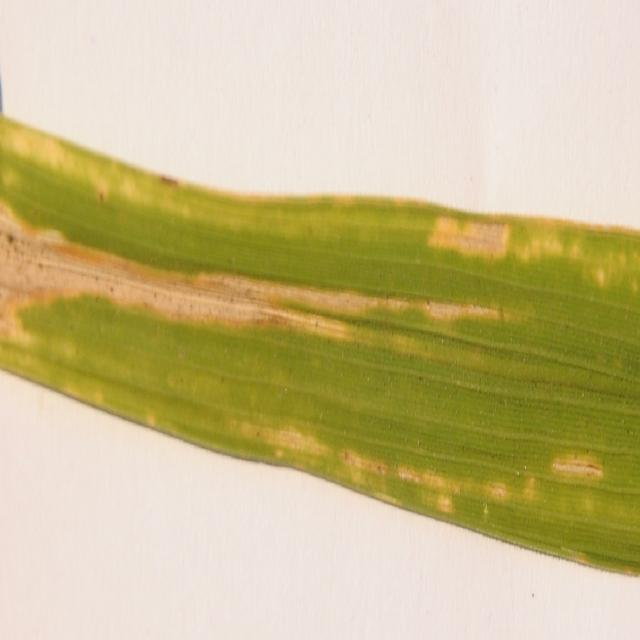Unhealthy: (0, 194, 504, 358), (0, 111, 349, 243), (427, 214, 640, 302), (398, 469, 514, 503), (245, 423, 327, 457), (550, 452, 604, 489), (343, 445, 393, 472), (523, 471, 537, 509), (373, 491, 402, 509), (437, 497, 454, 514), (5, 171, 19, 190)
